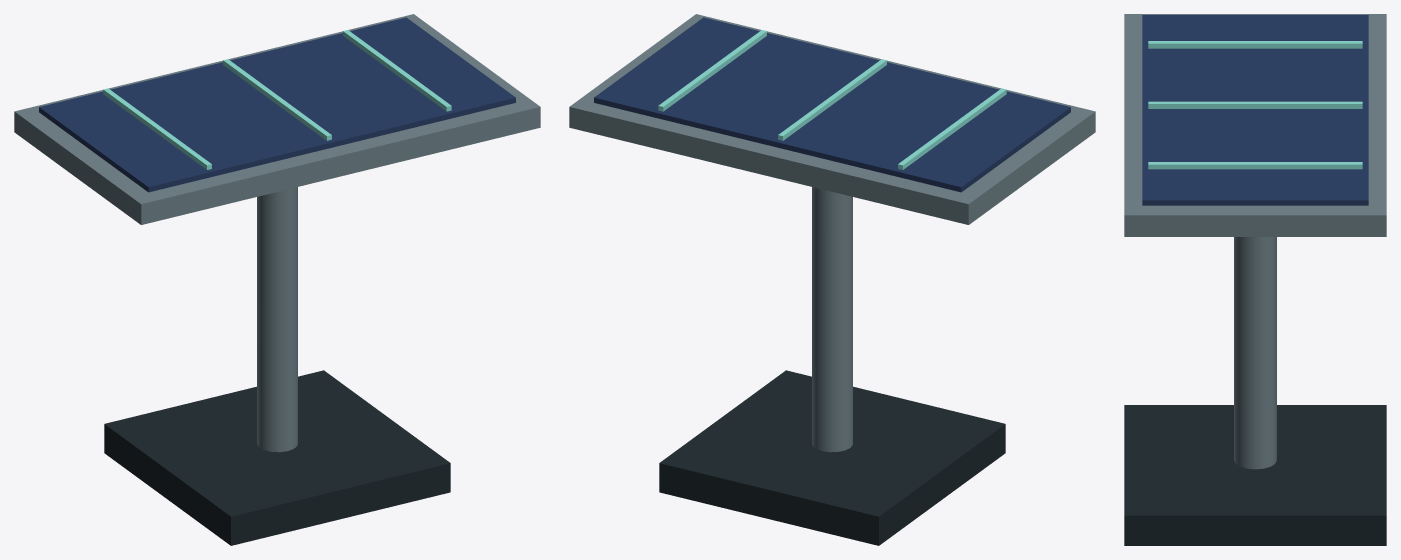
Rendered from polar-solar-mast.glb.
3 views of the same model, side by side, from view 1: azimuth 30°, elevation 25°; view 2: azimuth 150°, elevation 25°; view 3: azimuth 270°, elevation 25° (orthographic). The views are drawn at different scales.
Parts seen in each view (by area): view 1: solar_cells, base, panel_frame, mast, cell_bus (×3); view 2: solar_cells, base, panel_frame, mast, cell_bus (×3); view 3: solar_cells, base, panel_frame, mast, cell_bus (×3).
Boxes of the visible parts, x1=… form: solar_cells: x1=39, y1=17, x2=515, y2=192; base: x1=104, y1=370, x2=450, y2=545; panel_frame: x1=14, y1=14, x2=540, y2=224; mast: x1=257, y1=187, x2=297, y2=452; cell_bus (×3): x1=103, y1=30, x2=451, y2=169; solar_cells: x1=594, y1=17, x2=1070, y2=192; base: x1=659, y1=370, x2=1005, y2=545; panel_frame: x1=569, y1=14, x2=1095, y2=224; mast: x1=812, y1=187, x2=852, y2=452; cell_bus (×3): x1=658, y1=30, x2=1006, y2=169; solar_cells: x1=1142, y1=15, x2=1368, y2=205; base: x1=1124, y1=405, x2=1386, y2=545; panel_frame: x1=1124, y1=14, x2=1386, y2=236; mast: x1=1234, y1=237, x2=1276, y2=469; cell_bus (×3): x1=1148, y1=41, x2=1362, y2=169.
Bounding box in the file's own units: 2 × 1.79 × 1.1.
